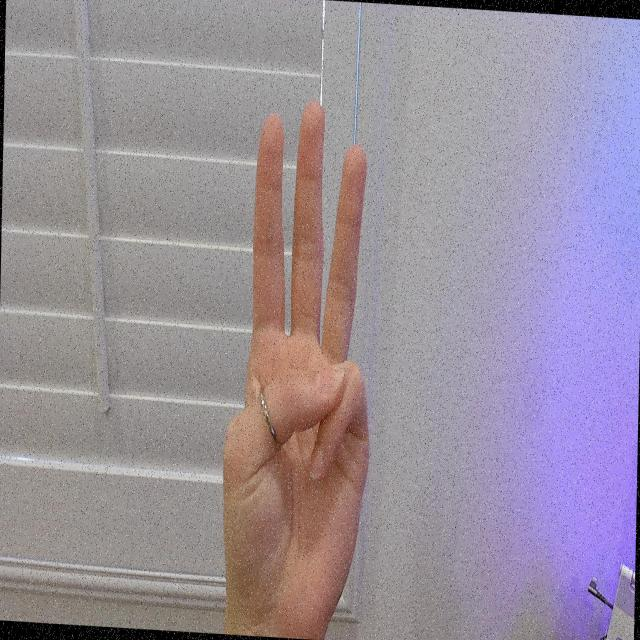W: (217, 90, 378, 636)
